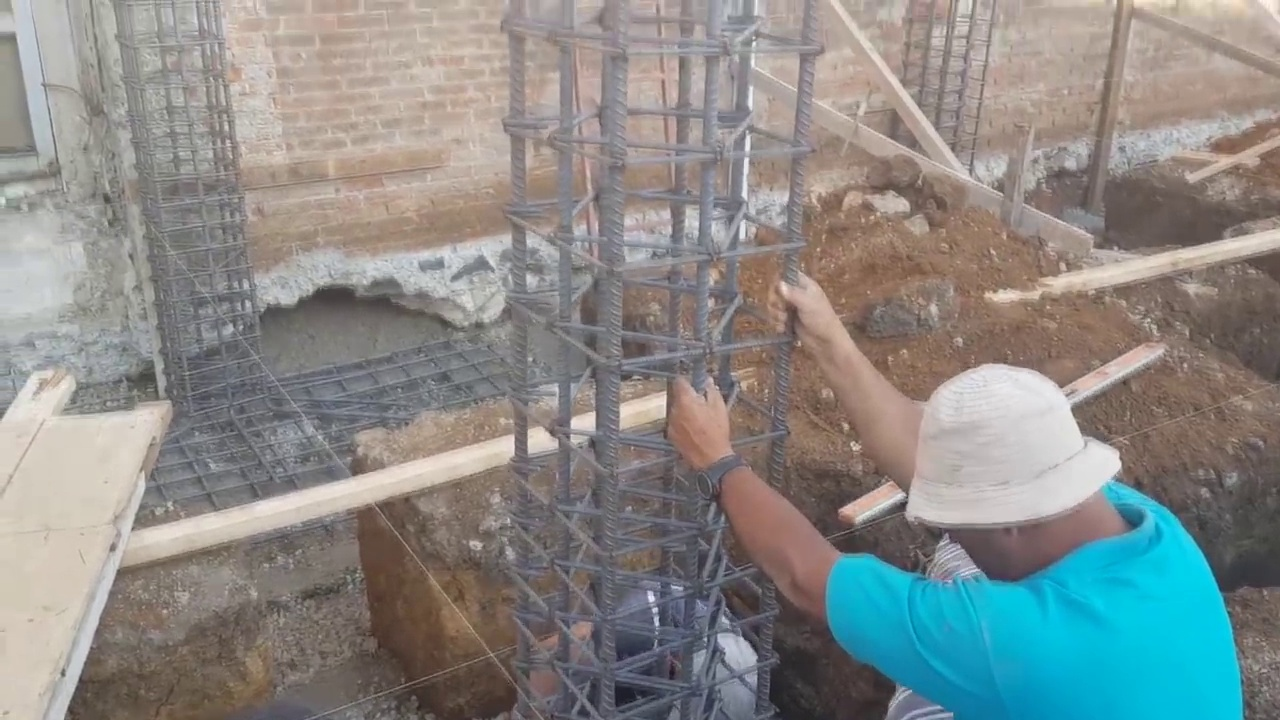helmet-off: (906, 378, 1147, 584), (686, 623, 765, 719)
person: (694, 330, 1253, 708), (528, 572, 770, 718)
